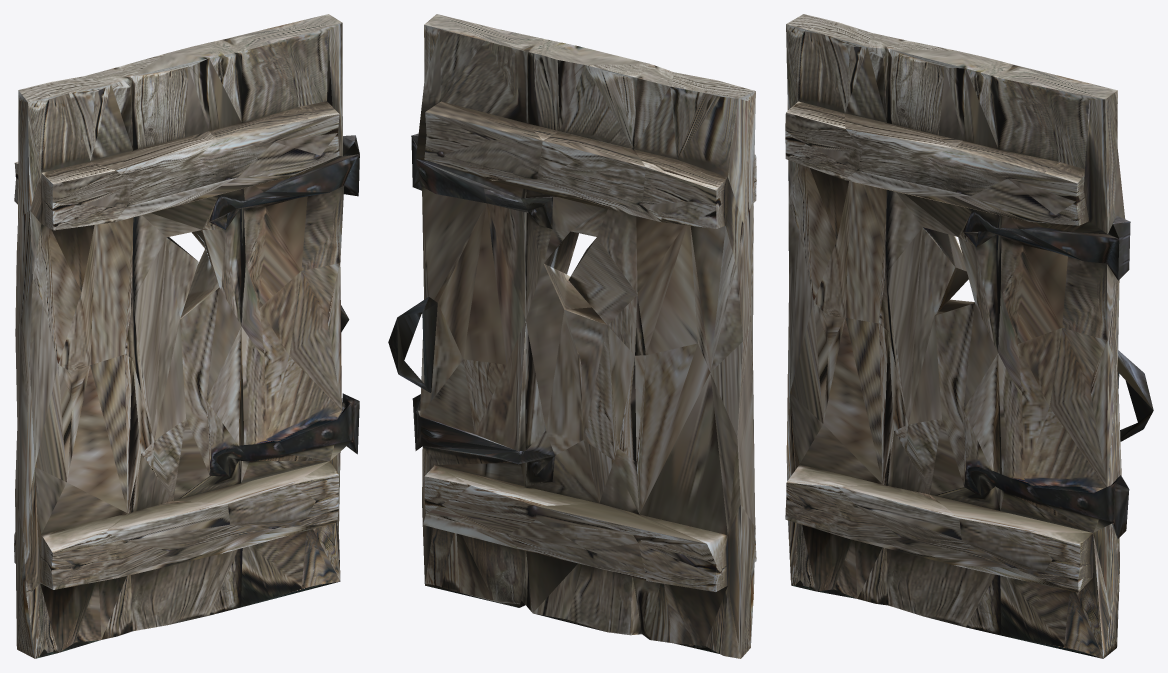
File: BoardShutter.glb
The picture shows the model from 3 angles, left to right: view 1: azimuth 30°, elevation 25°; view 2: azimuth 150°, elevation 25°; view 3: azimuth 330°, elevation 25°; orthographic projection.
Visible parts, largest first — view 1: BoardShutter; view 2: BoardShutter; view 3: BoardShutter.
Boxes of the visible parts, left/top/right/bottom form: BoardShutter: left=14, top=14, right=359, bottom=658; BoardShutter: left=388, top=14, right=756, bottom=658; BoardShutter: left=785, top=14, right=1153, bottom=658.
Size of the model in its own units: 0.6452 by 1 by 0.1462.
1 material, 1 textured.
